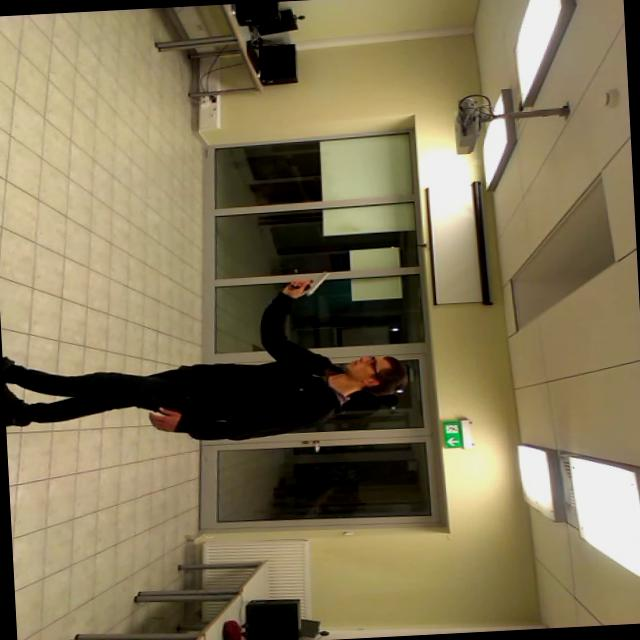handgun: (274, 258, 334, 300)
